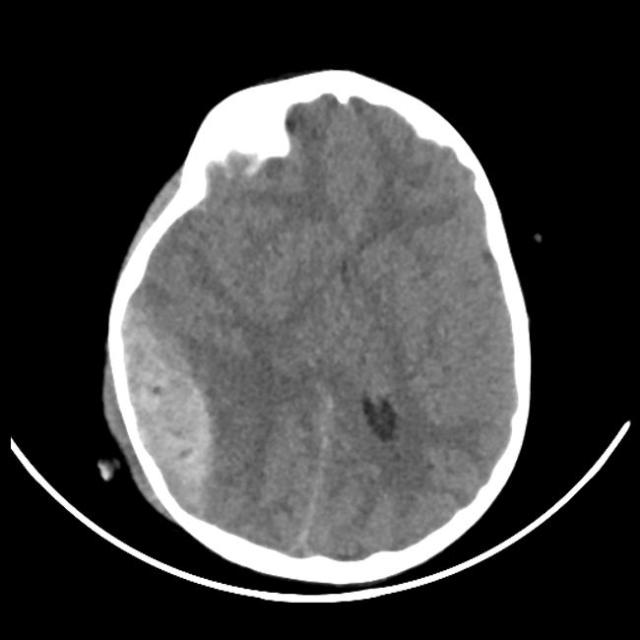lesion: (100, 74, 532, 565)
